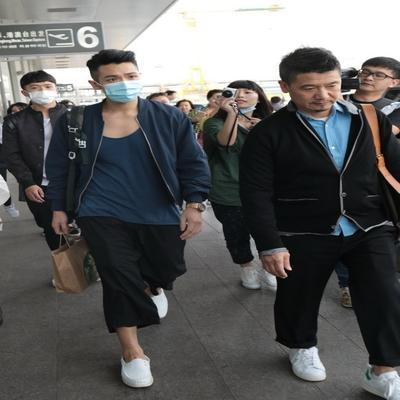Face_Mask_Found: (93, 69, 144, 104), (24, 81, 58, 105)
Face_Mask_Not_Found: (288, 74, 347, 112), (359, 65, 389, 96)
